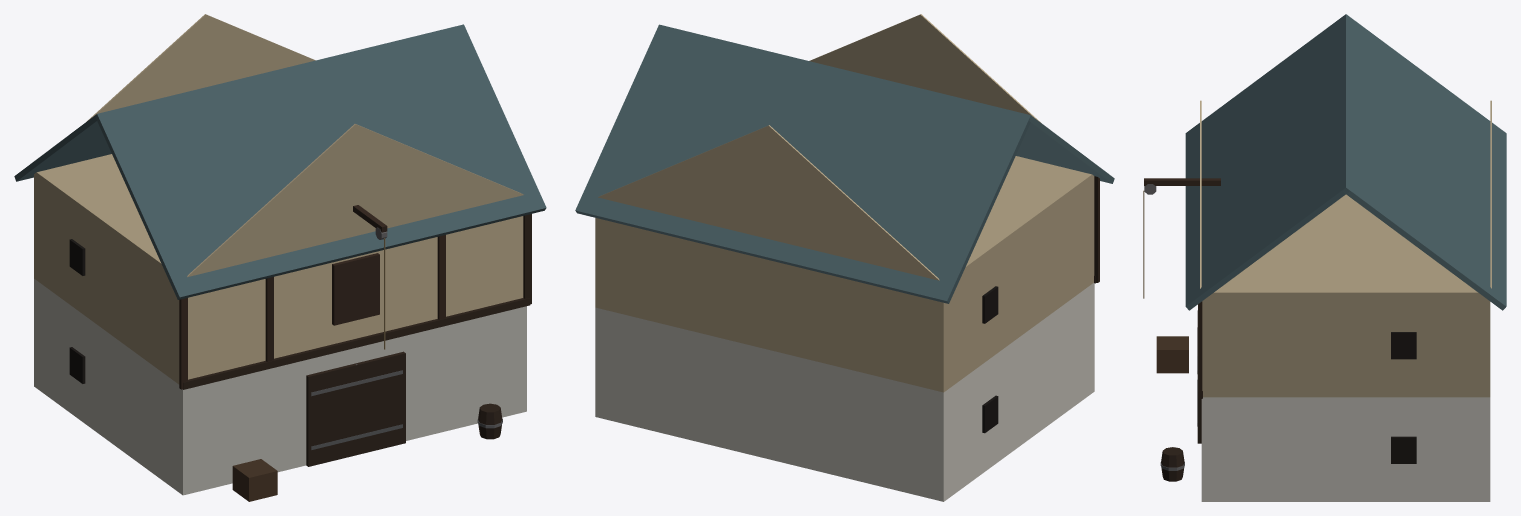
Rendered from walk_veiled_warehouse.glb.
The picture shows the model from 3 angles, left to right: view 1: azimuth 30°, elevation 25°; view 2: azimuth 150°, elevation 25°; view 3: azimuth 270°, elevation 25°; orthographic projection. The views are drawn at different scales.
Parts seen in each view (by area): view 1: walk_veiled_warehouse, walk_veiled_warehouse_roof; view 2: walk_veiled_warehouse, walk_veiled_warehouse_roof; view 3: walk_veiled_warehouse, walk_veiled_warehouse_roof.
Boxes of the visible parts, x1=… form: walk_veiled_warehouse: x1=34, y1=154, x2=531, y2=501; walk_veiled_warehouse_roof: x1=14, y1=14, x2=546, y2=299; walk_veiled_warehouse: x1=595, y1=156, x2=1099, y2=501; walk_veiled_warehouse_roof: x1=575, y1=14, x2=1114, y2=303; walk_veiled_warehouse: x1=1143, y1=178, x2=1490, y2=501; walk_veiled_warehouse_roof: x1=1185, y1=14, x2=1506, y2=310.
Size of what is drawn, in the model's own units: 12.8 by 11 by 11.31.
Materials: 2 (2 with a texture image).
